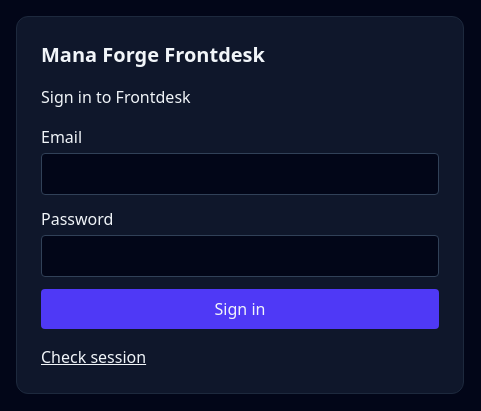
Operator sign-in › can go back from the second factor without keeping the challenge
The width and height of the screenshot is (481, 411).
In the field labelled "Email": coordinates (240, 174) [41,153,439,195], type "op@example.com"
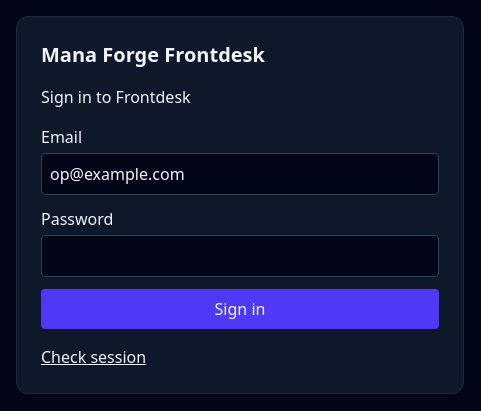
In the password field labelled "Password": coordinates (240, 256) [41,235,439,277], type "right-password"
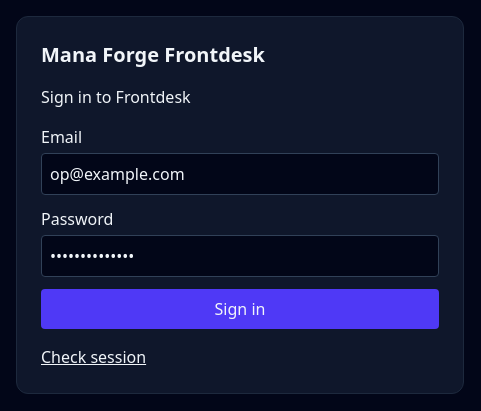
Click the button "Sign in": coordinates (240, 309) [41,289,439,329]
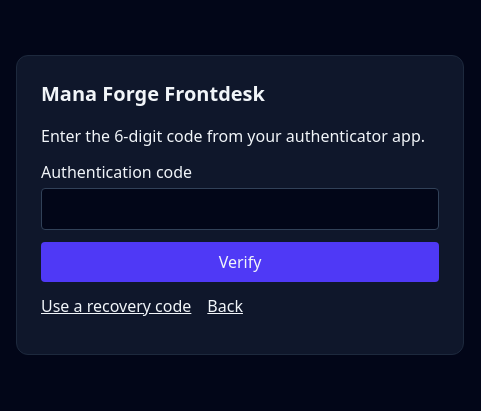
Expected: the field labelled "Authentication code" is shown, [41,188,439,230]
Click the button "Back": coordinates (225, 306) [207,294,243,318]
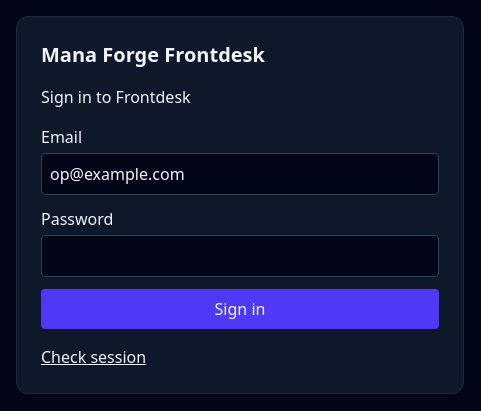
Expected: the field labelled "Email" is shown, [41,153,439,195]
Expected: the label labelled "Authentication code" is gone
